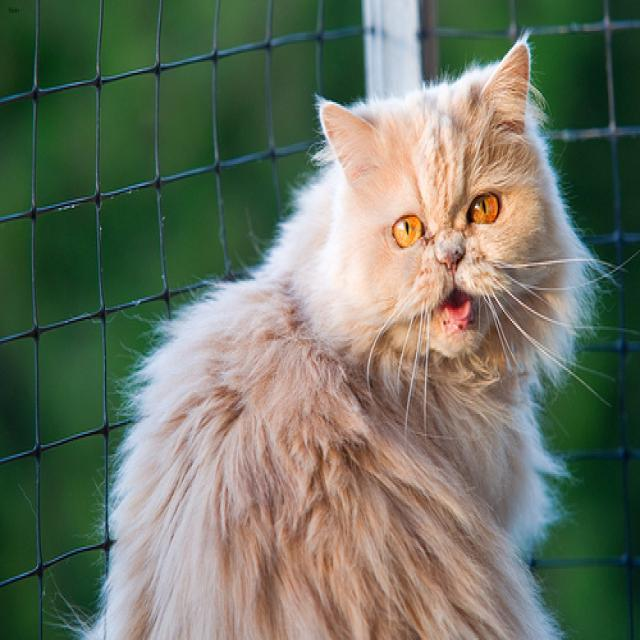Persian: (313, 33, 577, 381)
